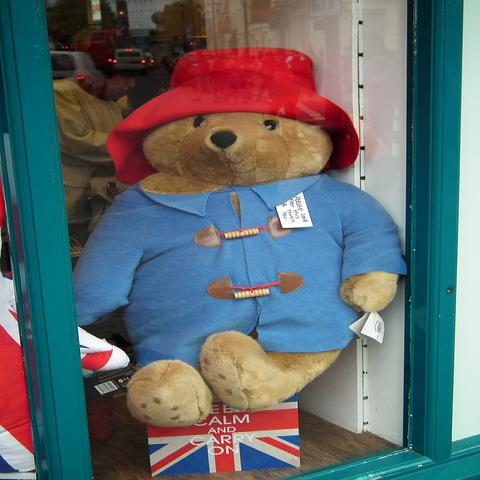car: (49, 50, 111, 98), (113, 50, 147, 76)
